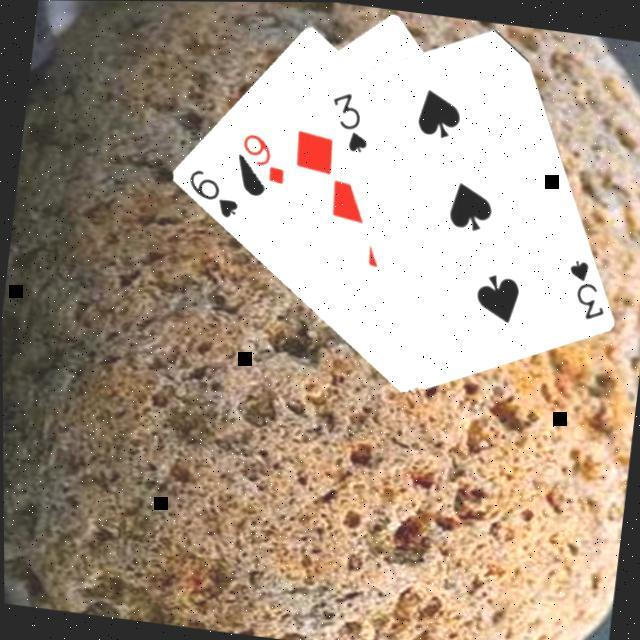3S: (322, 85, 375, 154), (560, 253, 612, 322)
6S: (181, 162, 245, 221)
9D: (234, 126, 292, 186)
